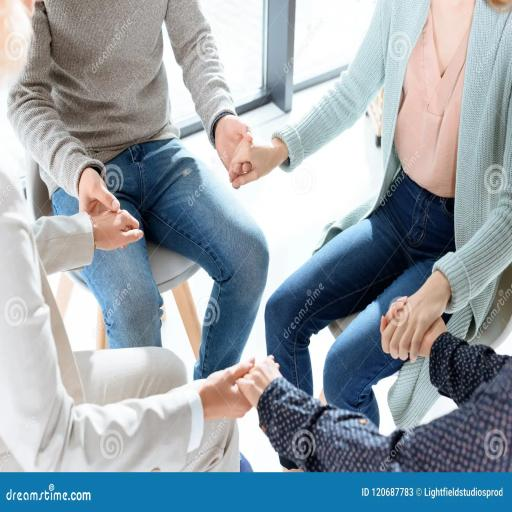person: (228, 0, 511, 464), (5, 0, 270, 382), (238, 298, 512, 472)
